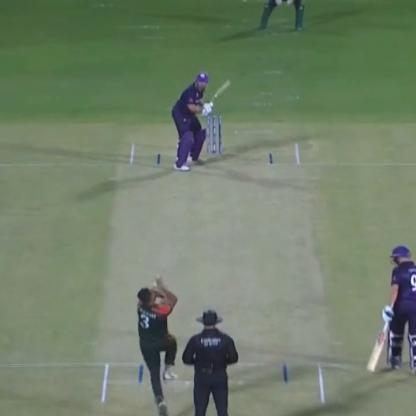ball: (154, 270, 168, 281), (151, 279, 162, 289)
pitch: (95, 138, 324, 408)
